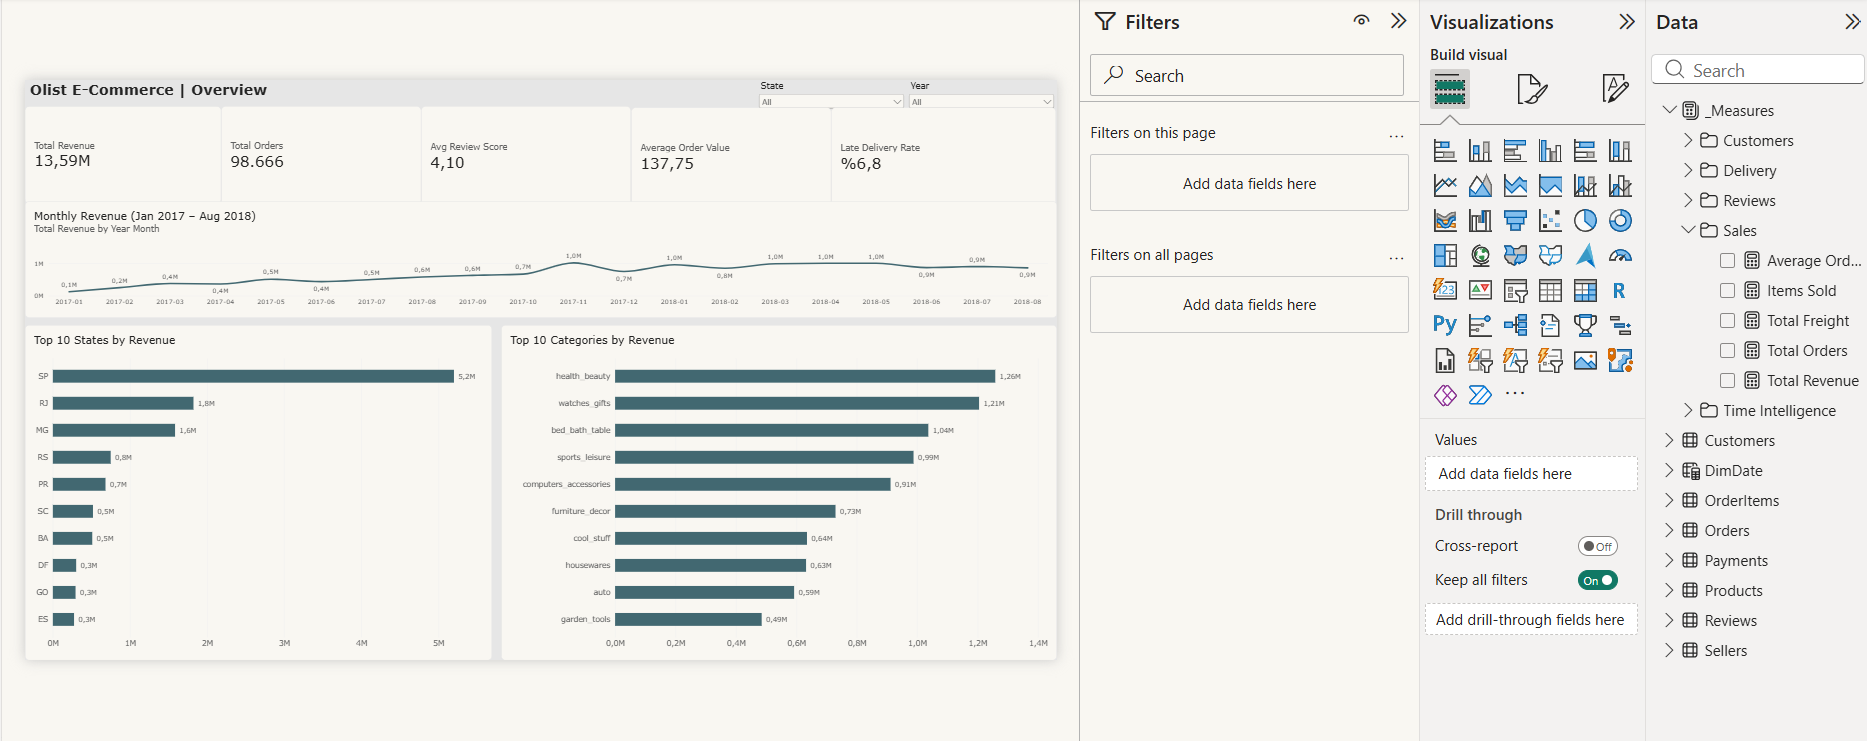

The dashboard page shown, as its layout file describes it:
{"tool":"powerbi","page":{"name":"Overview","canvas":[1920,1080],"ordinal":0},"visuals":[{"type":"textbox","box":[8.9,0,458.9,280.7],"z":0},{"type":"slicer","fields":{"Values":["DimDate.Year"]},"box":[1640.5,0,280,280],"z":1000},{"type":"slicer","fields":{"Values":["Customers.customer_state"]},"box":[1360.6,0,279.9,279.9],"z":2000},{"type":"cardVisual","fields":{"Data":["_Measures.Total Revenue"]},"box":[0,48.8,365.1,181.4],"z":3000},{"type":"cardVisual","fields":{"Data":["_Measures.Average Order Value"]},"box":[1127.9,51.2,372.1,183.7],"z":4000},{"type":"cardVisual","fields":{"Data":["_Measures.Late Delivery Rate"]},"box":[1500,51.2,418.6,183.7],"z":5000},{"type":"cardVisual","fields":{"Data":["_Measures.Total Orders"]},"box":[365.1,48.8,372.1,183.7],"z":6000},{"type":"cardVisual","fields":{"Data":["_Measures.Avg Review Score"]},"box":[737.2,48.8,390.7,186],"z":7000},{"type":"lineChart","title":"Monthly Revenue (Jan 2017 – Aug 2018)","fields":{"Category":["DimDate.Year Month"],"Y":["_Measures.Total Revenue"]},"box":[0,224.6,1920,216.9],"z":8000},{"type":"clusteredBarChart","title":"Top 10 Categories by Revenue","fields":{"Category":["Products.category"],"Y":["_Measures.Total Revenue"]},"box":[886.7,456.7,1033.7,623.8],"z":9000},{"type":"clusteredBarChart","title":"Top 10 States by Revenue","fields":{"Category":["Customers.customer_state"],"Y":["_Measures.Total Revenue"]},"box":[0,456.7,868.9,623.8],"z":10000}]}

Visuals, with their boxes on the page's 1920x1080 design canvas (x1, y1, x2, y2). These are canvas units, not pixel positions in the 1867x741 screenshot, which may show the page scaled, cropped or inside an application window:
textbox: 9,0,468,281
slicer - DimDate.Year: 1640,0,1920,280
slicer - Customers.customer_state: 1361,0,1640,280
cardVisual - _Measures.Total Revenue: 0,49,365,230
cardVisual - _Measures.Average Order Value: 1128,51,1500,235
cardVisual - _Measures.Late Delivery Rate: 1500,51,1919,235
cardVisual - _Measures.Total Orders: 365,49,737,232
cardVisual - _Measures.Avg Review Score: 737,49,1128,235
"Monthly Revenue (Jan 2017 – Aug 2018)" lineChart: 0,225,1920,442
"Top 10 Categories by Revenue" clusteredBarChart: 887,457,1920,1080
"Top 10 States by Revenue" clusteredBarChart: 0,457,869,1080
